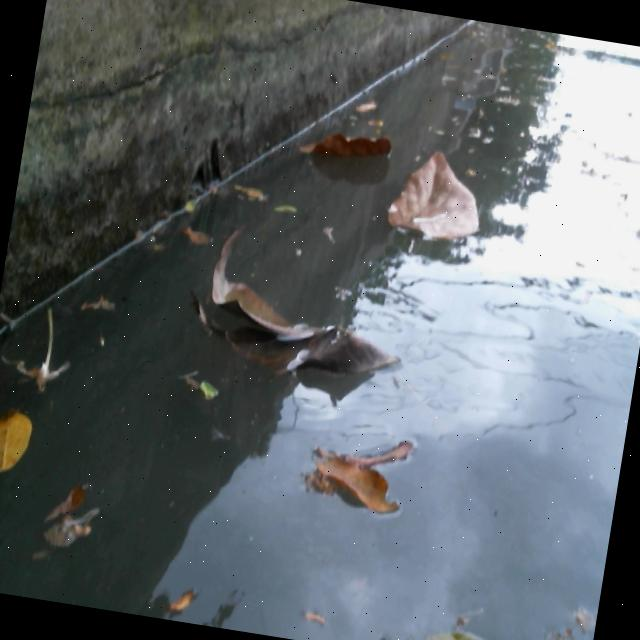Big-leaf: (190, 225, 417, 401), (297, 416, 428, 531), (380, 140, 497, 264), (291, 111, 395, 176)
Small-leaf: (31, 462, 101, 567), (0, 388, 46, 510), (173, 366, 230, 423), (410, 615, 522, 640), (79, 279, 130, 324), (167, 215, 226, 251), (162, 582, 196, 621), (222, 181, 264, 212), (260, 193, 307, 220), (293, 608, 327, 639), (353, 88, 381, 125), (371, 628, 420, 640)
